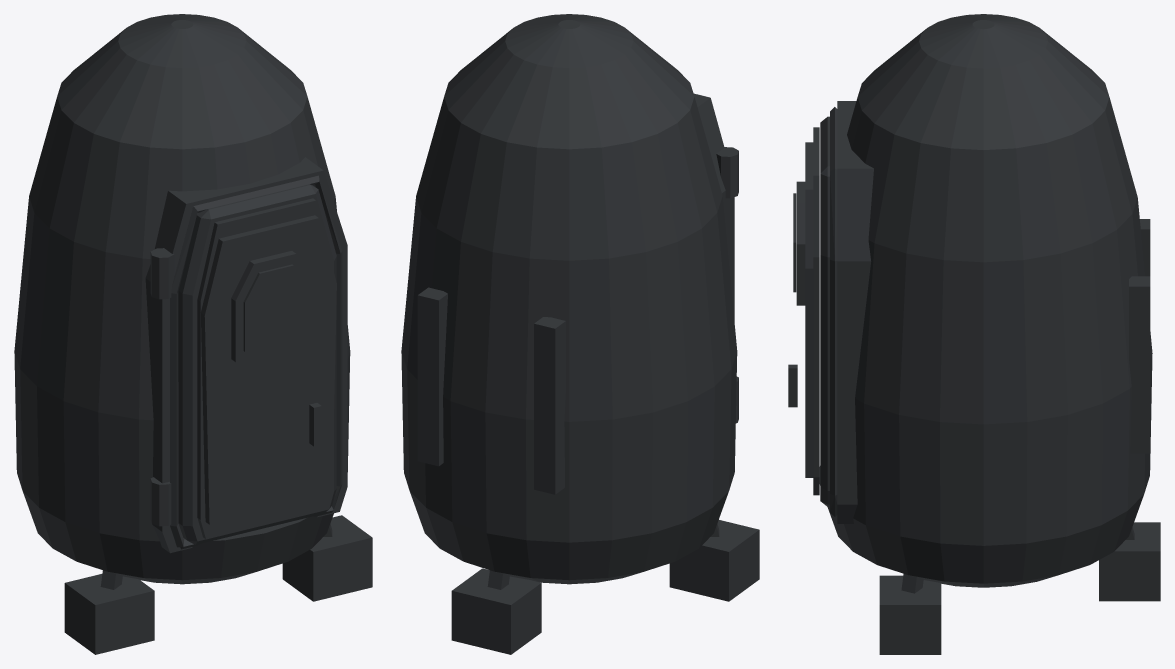
Rendered from LANDING_POD.shadow.glb.
3 renders of one model, left to right at view 1: azimuth 30°, elevation 25°; view 2: azimuth 150°, elevation 25°; view 3: azimuth 270°, elevation 25°, orthographic.
Visible parts, largest first — view 1: Body_Mesh, HatchPivot_Mesh; view 2: Body_Mesh; view 3: Body_Mesh, HatchPivot_Mesh.
Boxes of the visible parts, x1,y1,x2,y2 form: Body_Mesh: [14, 14, 372, 654]; HatchPivot_Mesh: [178, 184, 336, 544]; Body_Mesh: [401, 14, 759, 654]; Body_Mesh: [819, 14, 1160, 654]; HatchPivot_Mesh: [788, 116, 829, 506].
Size of the model in its own units: 0.55 by 1.01 by 0.6055.
Materials: 1 (1 with a texture image).
